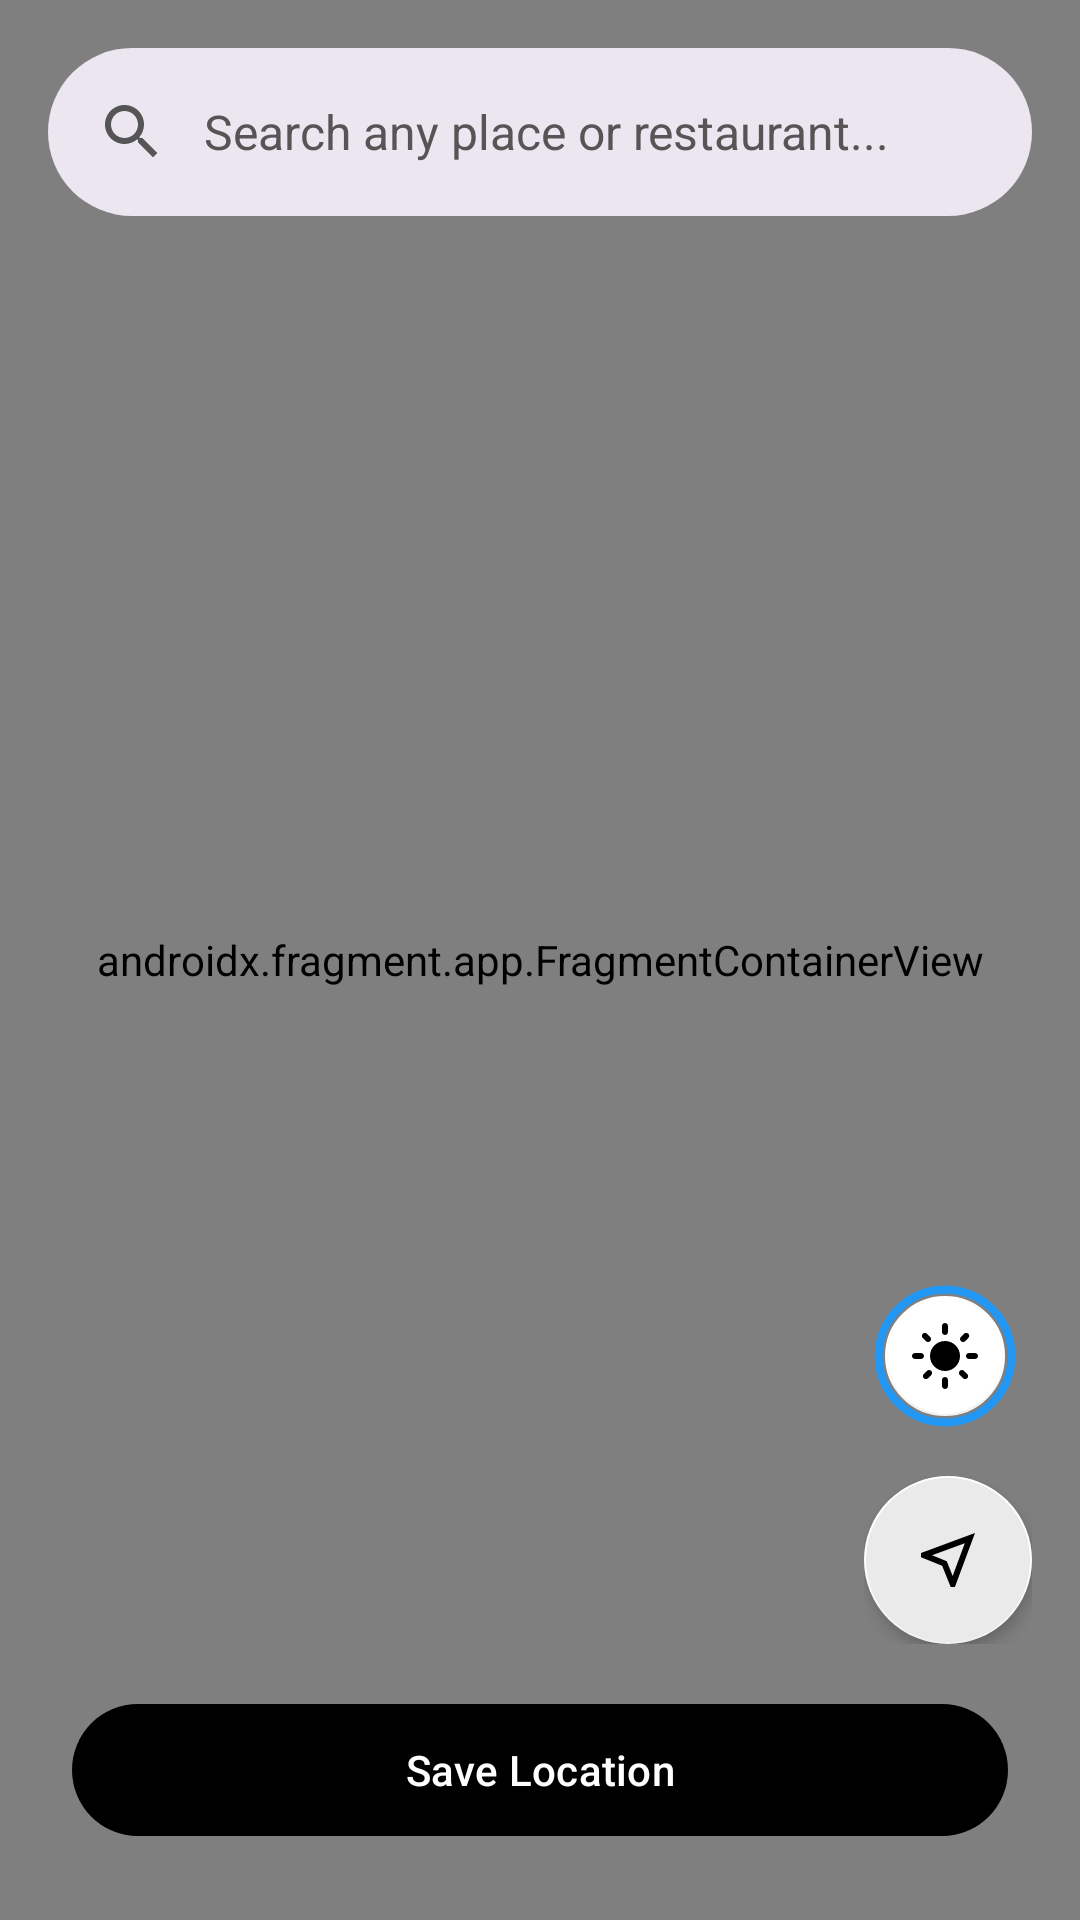

Icon click points for this 1080×1920 phone screenshot, format (x,y):
sunny: (945,1356)
